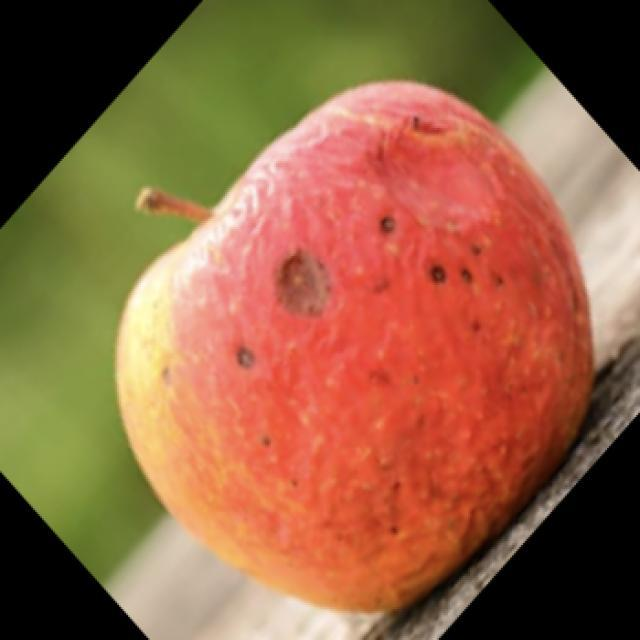Rotten: (140, 125, 603, 593)
